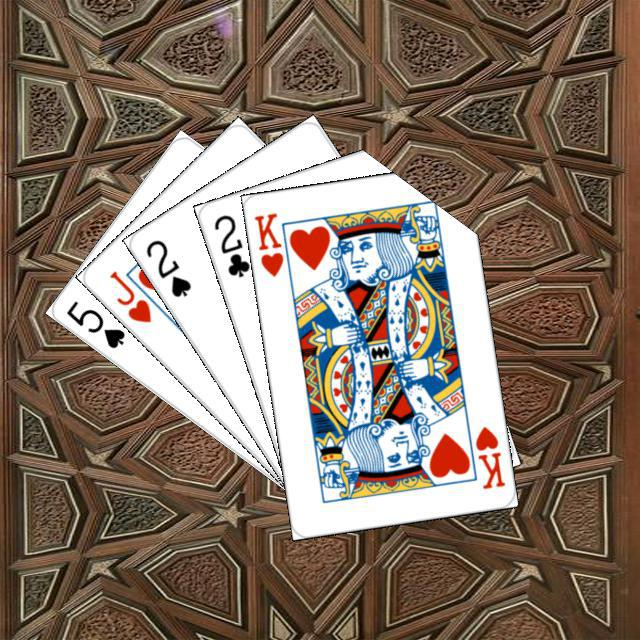2c: (209, 209, 252, 279)
2s: (140, 234, 193, 299)
5s: (61, 295, 127, 351)
Jh: (104, 266, 153, 325)
Kh: (249, 208, 294, 283), (470, 421, 507, 491)
